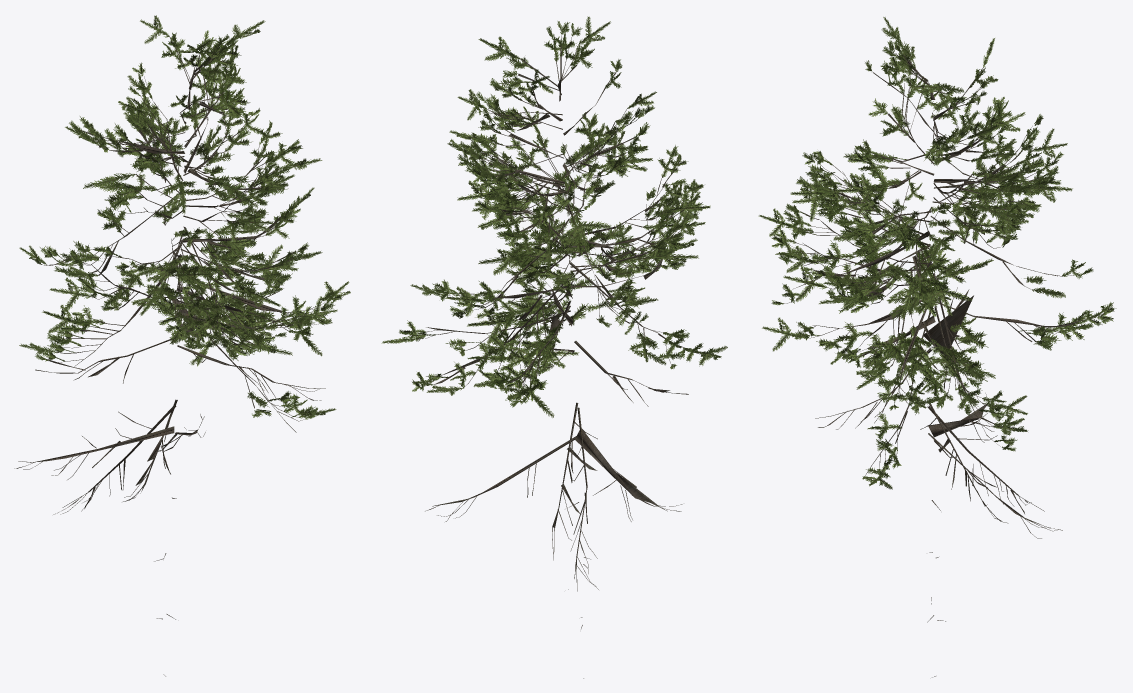
Rendered from fir_tree_01-c-lod1.glb.
3 views of the same model, side by side, from view 1: azimuth 30°, elevation 25°; view 2: azimuth 150°, elevation 25°; view 3: azimuth 270°, elevation 25° (orthographic). The views are drawn at different scales.
Parts seen in each view (by area): view 1: fir_tree_01.c.lod1.foliage, fir_tree_01.c.lod1.bark; view 2: fir_tree_01.c.lod1.foliage, fir_tree_01.c.lod1.bark; view 3: fir_tree_01.c.lod1.foliage, fir_tree_01.c.lod1.bark.
Part boxes in pixels (left/top/right/bottom): fir_tree_01.c.lod1.foliage: left=19, top=15, right=350, bottom=419; fir_tree_01.c.lod1.bark: left=14, top=36, right=325, bottom=676; fir_tree_01.c.lod1.foliage: left=381, top=16, right=727, bottom=417; fir_tree_01.c.lod1.bark: left=417, top=35, right=712, bottom=678; fir_tree_01.c.lod1.foliage: left=758, top=17, right=1116, bottom=489; fir_tree_01.c.lod1.bark: left=784, top=49, right=1103, bottom=677.
Bounding box in the file's own units: 6.35 × 12.17 × 6.01.
2 materials, 2 textured.
